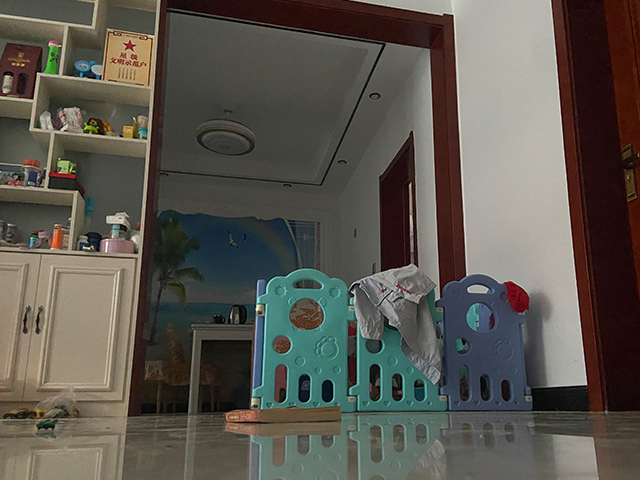book: (224, 405, 343, 425)
cabinet: (1, 248, 144, 419)
stool: (161, 323, 222, 414)
table: (187, 322, 254, 414)
